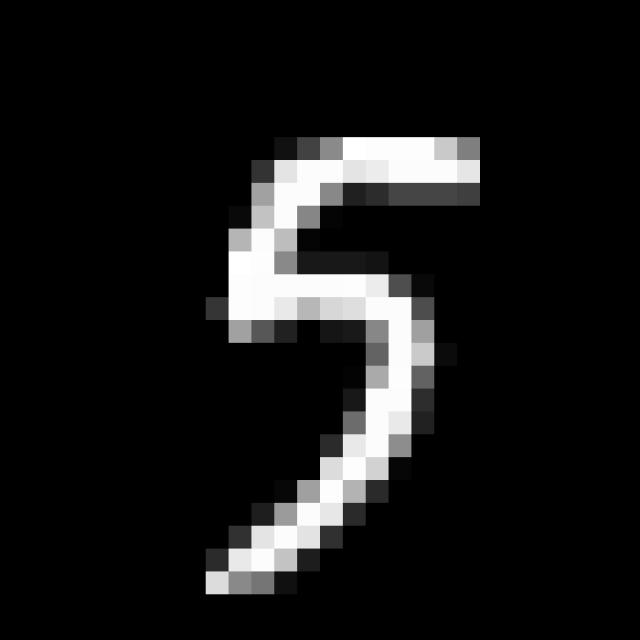five -5-: (211, 128, 498, 612)
